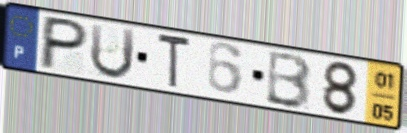6: (206, 40, 247, 101)
8: (320, 59, 361, 118)
B: (263, 49, 314, 111)
P: (36, 14, 92, 72)
T: (156, 31, 194, 91)
U: (87, 21, 138, 81)
